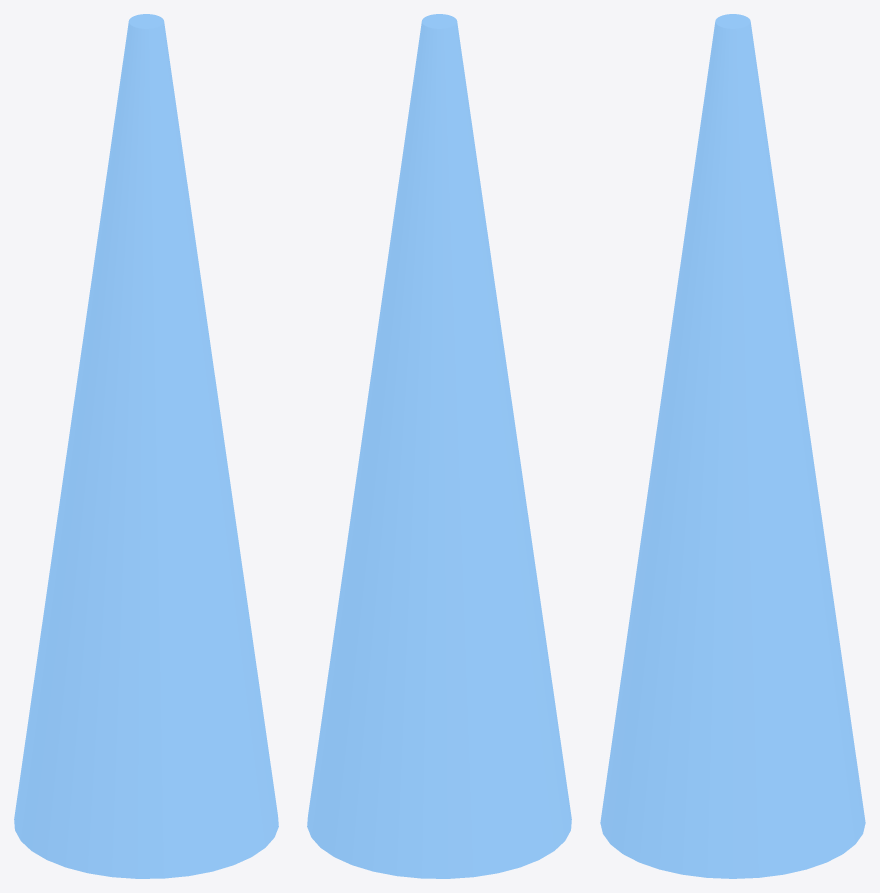
The model's file is engine_trail.glb.
The picture shows the model from 3 angles, left to right: view 1: azimuth 30°, elevation 25°; view 2: azimuth 150°, elevation 25°; view 3: azimuth 270°, elevation 25°; orthographic projection.
Parts seen in each view (by area): view 1: engine_trail; view 2: engine_trail; view 3: engine_trail.
Part boxes in pixels (x1,y1,x2,y2): engine_trail: [14, 14, 278, 878]; engine_trail: [307, 14, 571, 878]; engine_trail: [600, 14, 865, 878].
Size of the model in its own units: 0.3 by 1 by 0.3.
